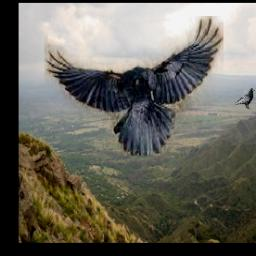Crow: (45, 17, 224, 157), (235, 87, 256, 110)
